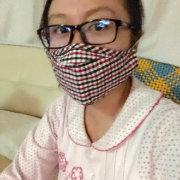OK: (46, 5, 143, 102)
